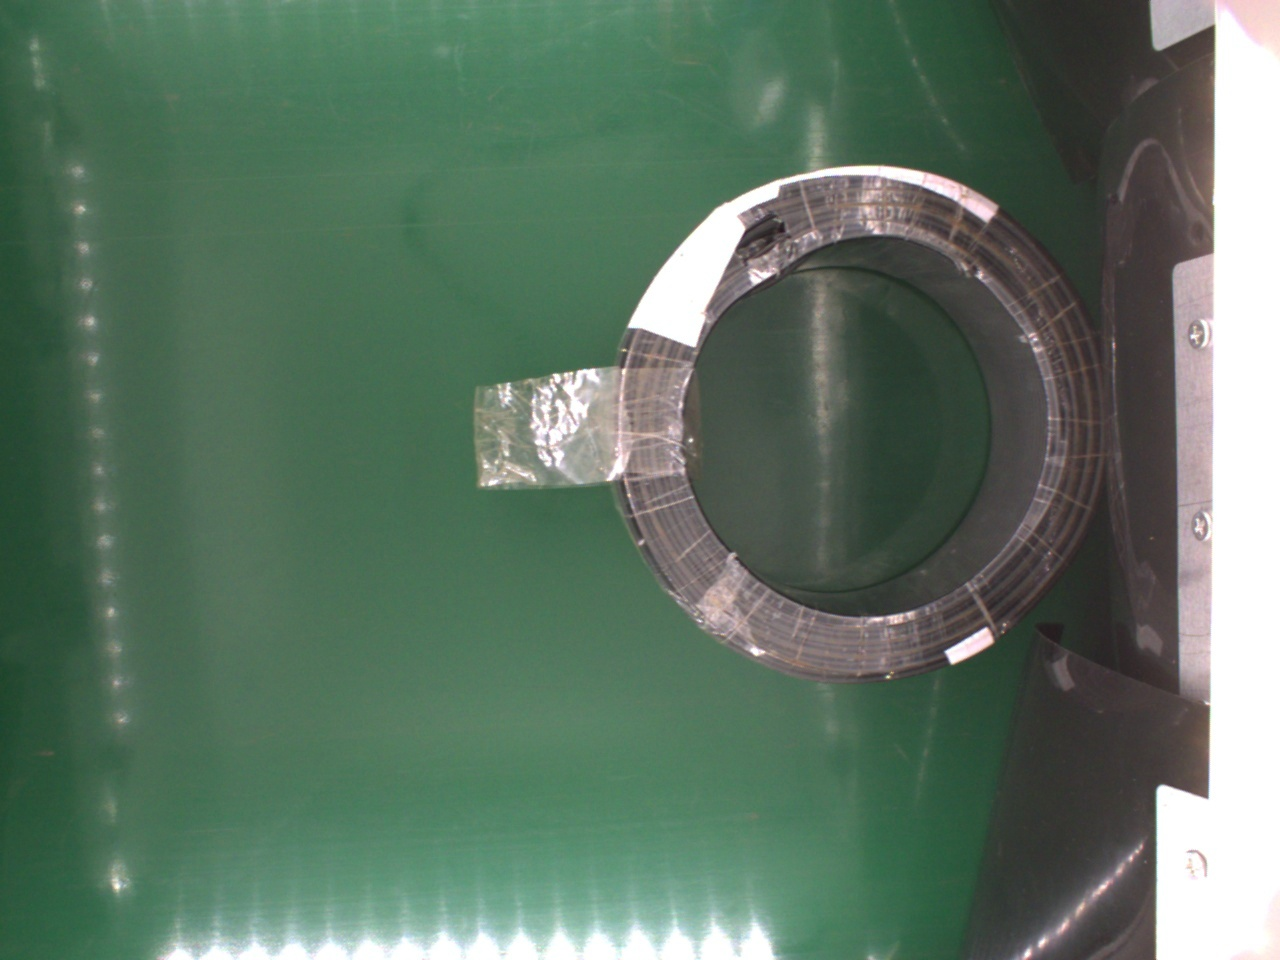black: (621, 165, 1101, 681)
